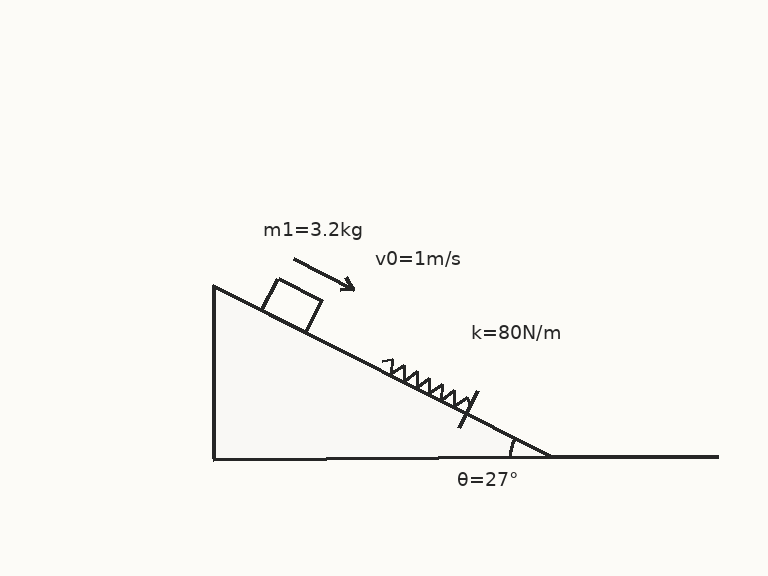block: (260, 276, 323, 334)
ramp: (211, 283, 552, 459)
spring: (380, 356, 472, 408)
